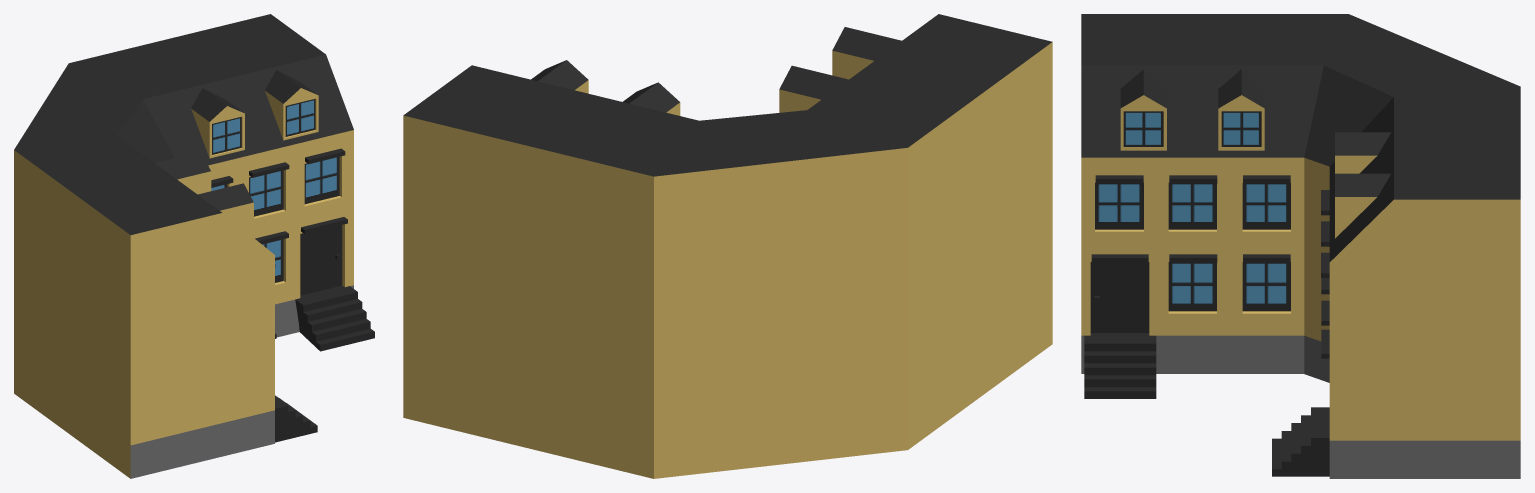
File: AngleYellow.obj
3 views of the same model, side by side, from view 1: azimuth 30°, elevation 25°; view 2: azimuth 150°, elevation 25°; view 3: azimuth 270°, elevation 25° (orthographic). The views are drawn at different scales.
Visible parts, largest first — view 1: rogZolty; view 2: rogZolty; view 3: rogZolty.
Boxes of the visible parts, x1=… form: rogZolty: x1=14, y1=14, x2=374, y2=478; rogZolty: x1=403, y1=14, x2=1052, y2=478; rogZolty: x1=1081, y1=14, x2=1520, y2=478.
Bounding box in the file's own units: 11.5 × 8.07 × 11.5.
